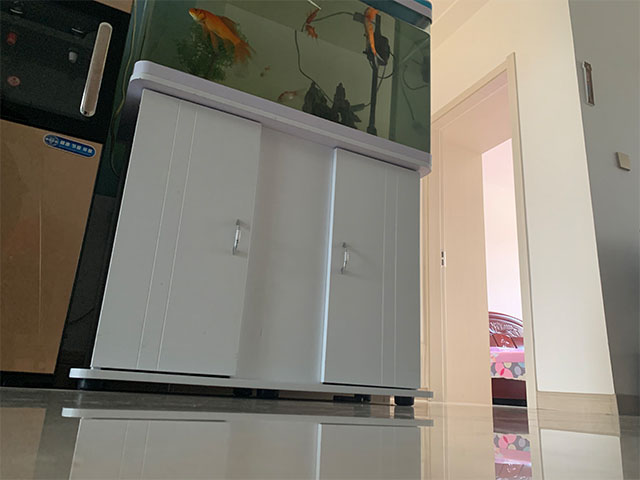cabinet: (68, 59, 435, 407)
